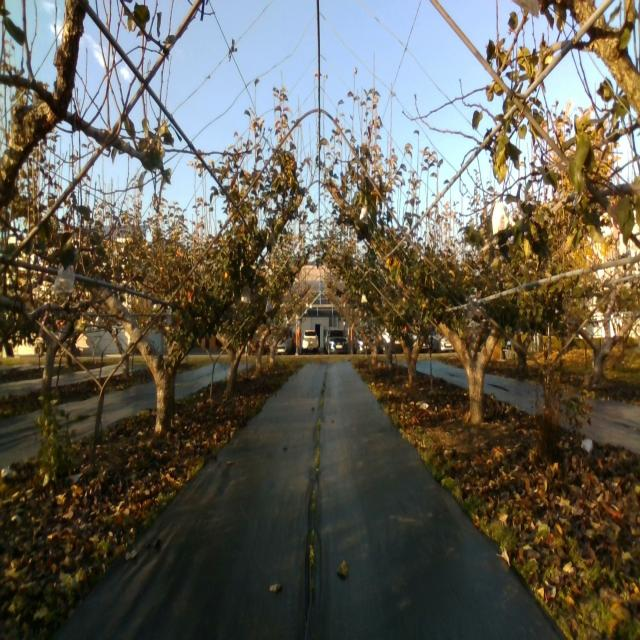pearbags: (492, 202, 515, 236), (53, 264, 75, 296)
